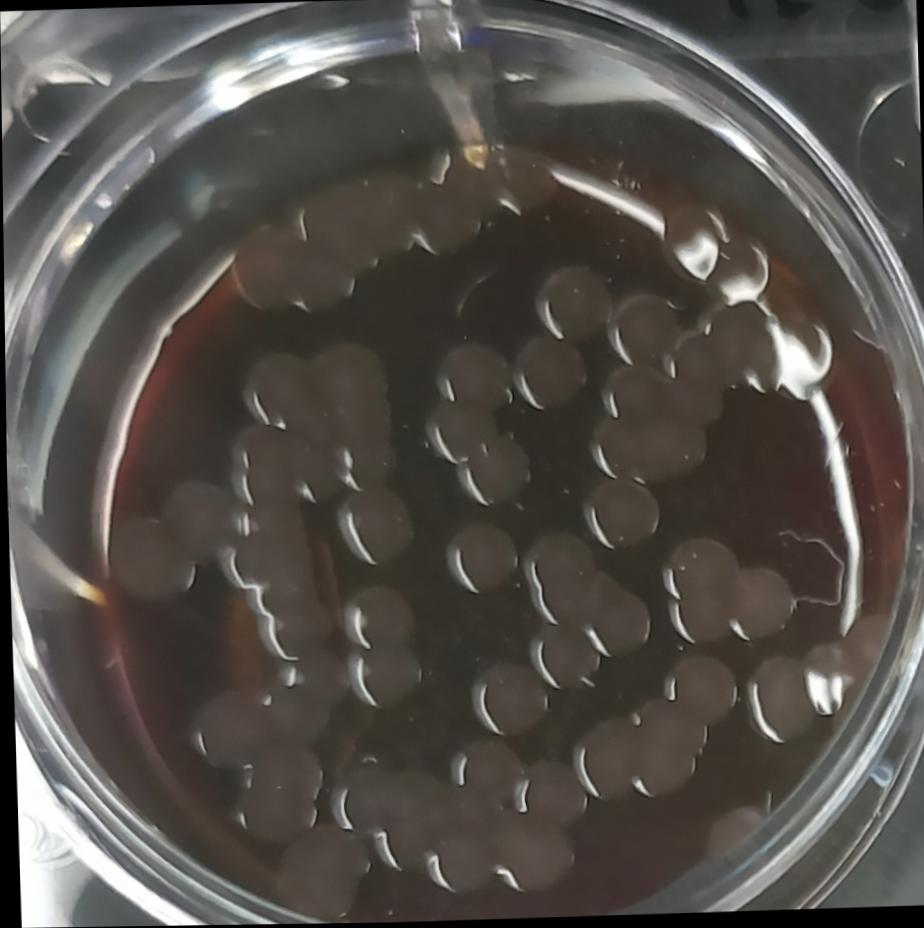vproteolyticus: (327, 760, 580, 907), (222, 425, 333, 660), (660, 526, 802, 650), (522, 527, 653, 661), (585, 363, 714, 488), (570, 694, 706, 809), (226, 220, 357, 317), (324, 334, 398, 489), (231, 737, 326, 853), (107, 513, 197, 610), (178, 682, 272, 774), (237, 341, 328, 434), (532, 259, 619, 347), (741, 652, 817, 749), (159, 474, 239, 566), (334, 485, 420, 567), (470, 661, 551, 742), (435, 335, 516, 415), (511, 329, 586, 413), (411, 175, 484, 261), (602, 289, 684, 364), (584, 478, 663, 555), (459, 431, 533, 510), (659, 654, 736, 728), (529, 617, 602, 692), (443, 522, 519, 594), (346, 643, 424, 712), (513, 757, 587, 828), (337, 582, 415, 649), (424, 395, 495, 466), (448, 736, 513, 804)
